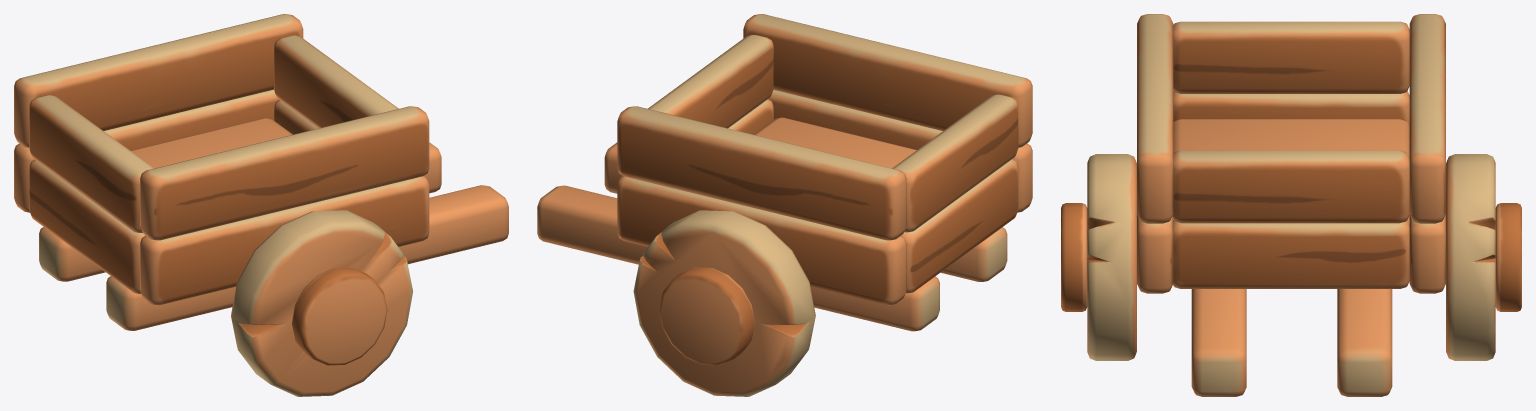
Rendered from wheelbarrow.fbx.
3 renders of one model, left to right at view 1: azimuth 30°, elevation 25°; view 2: azimuth 150°, elevation 25°; view 3: azimuth 270°, elevation 25°, orthographic. The views are drawn at different scales.
Visible parts, largest first — view 1: wheelbarrow; view 2: wheelbarrow; view 3: wheelbarrow.
Part boxes in pixels (left/top/right/bottom): wheelbarrow: left=14, top=14, right=508, bottom=396; wheelbarrow: left=537, top=14, right=1032, bottom=396; wheelbarrow: left=1061, top=14, right=1521, bottom=396.
Size of the model in its own units: 120 by 70.92 by 115.
1 material, 1 textured.
